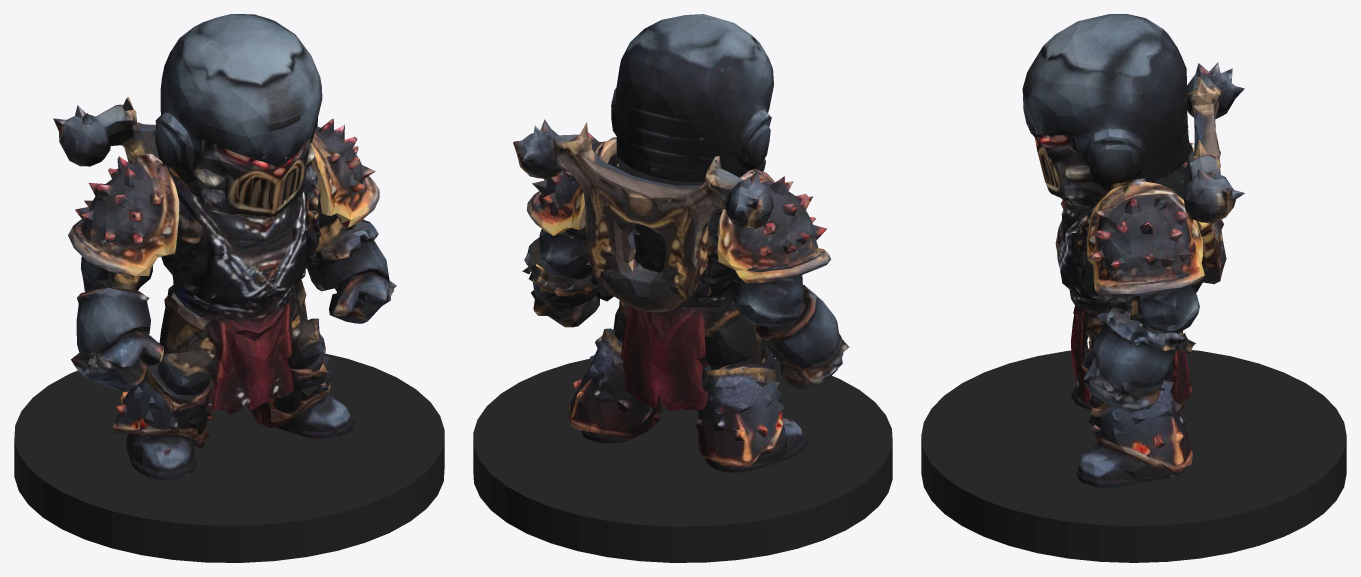
File: lg-butcher.glb
3 renders of one model, left to right at view 1: azimuth 30°, elevation 25°; view 2: azimuth 150°, elevation 25°; view 3: azimuth 270°, elevation 25°, orthographic. The views are drawn at different scales.
Parts seen in each view (by area): view 1: figure, base; view 2: figure, base; view 3: figure, base.
Part boxes in pixels (bbox=[...]): figure: bbox=[53, 14, 396, 480]; base: bbox=[14, 353, 444, 562]; figure: bbox=[513, 14, 849, 472]; base: bbox=[473, 358, 892, 562]; figure: bbox=[1022, 14, 1244, 488]; base: bbox=[921, 350, 1346, 562].
Bounding box in the file's own units: 1.26 × 1.47 × 1.26.
2 materials, 1 textured.
